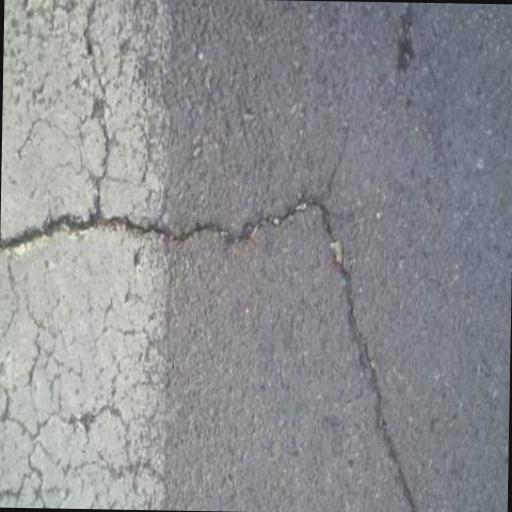spalling: (8, 177, 434, 508), (83, 6, 125, 206)
